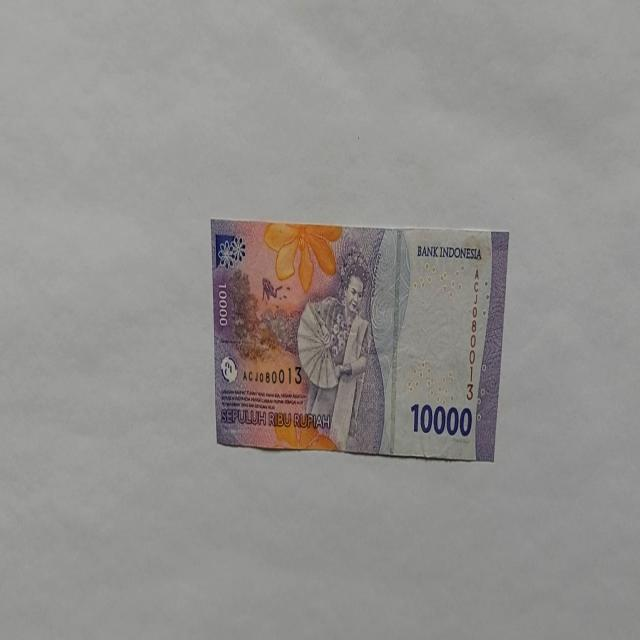sepuluh ribu rupiah: (210, 218, 508, 462)
